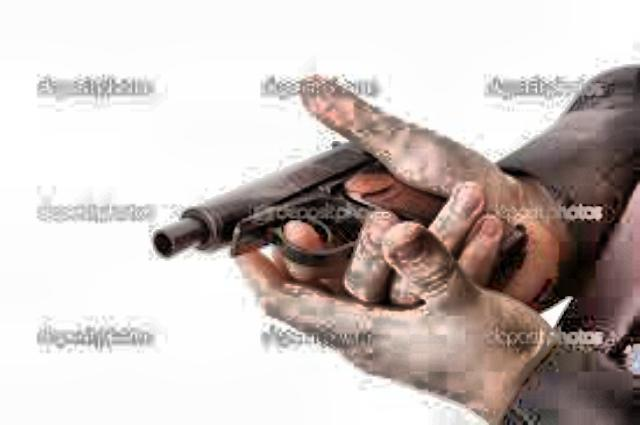pistol: (156, 112, 528, 296)
